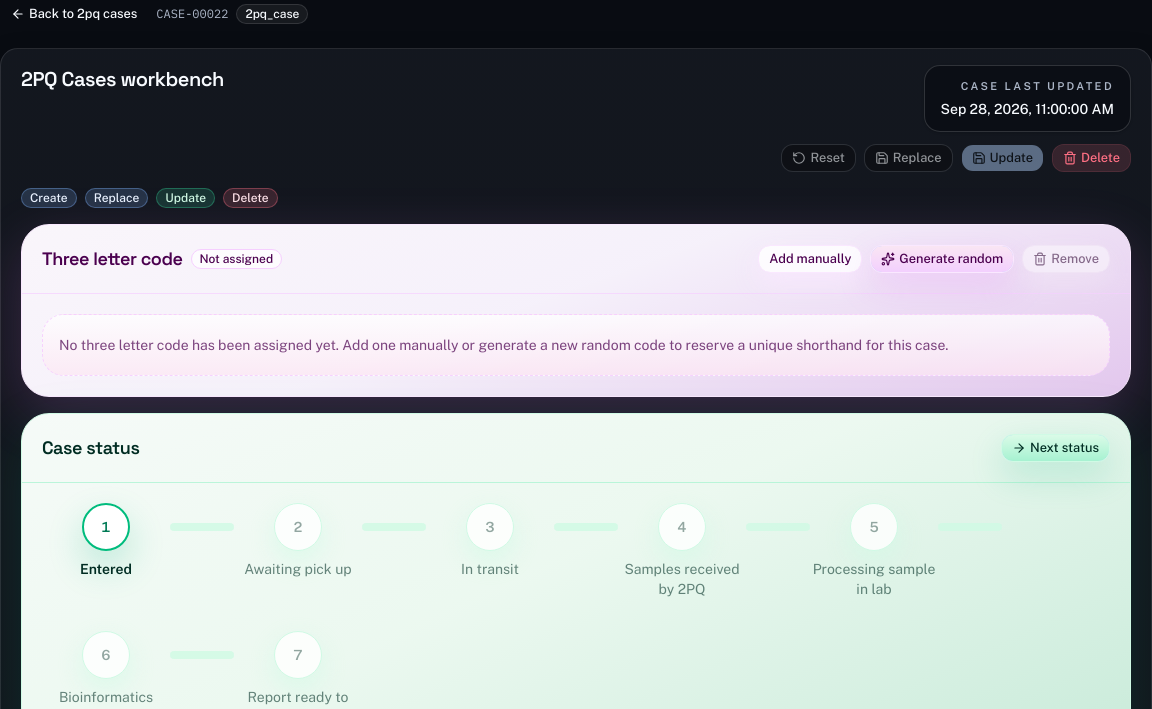
Test: 2PQ case-status progress modal › opens immediately and refreshes only after the operator finishes
Click the button "Next status".
click(1056, 448)  # box [1001,434,1110,462]
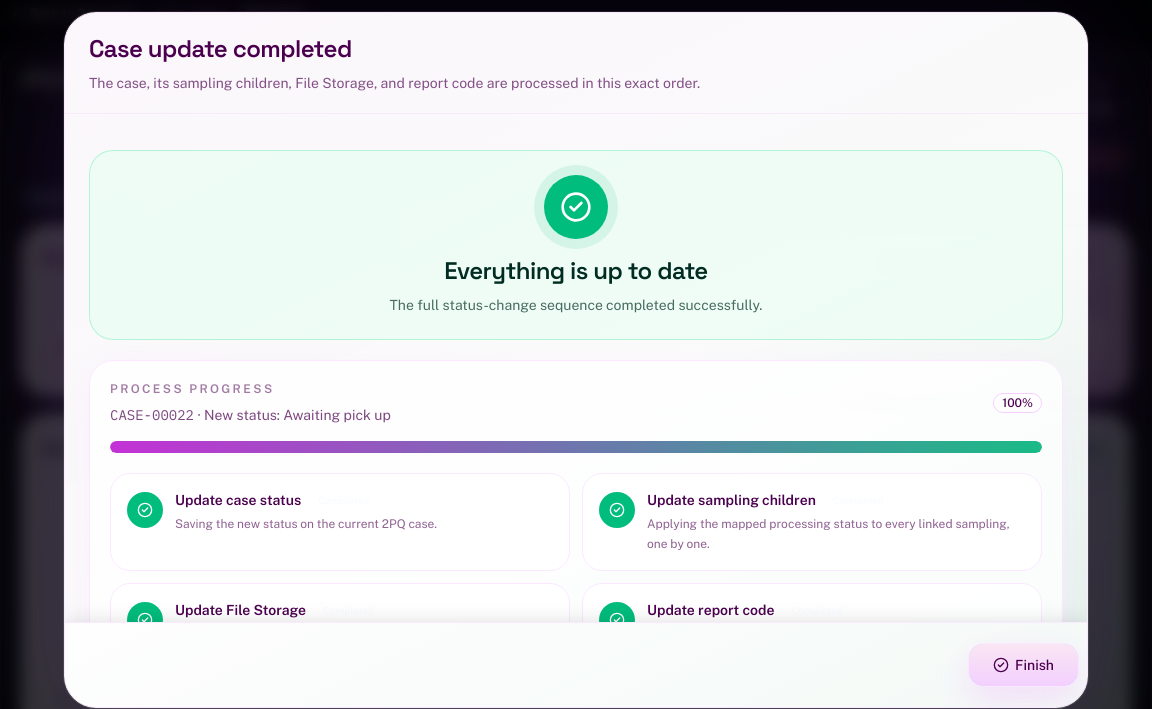
Check: the heading named "Updating case status" is shown, box [89,33,352,64]
Check: the text "Update case status" is shown, box [175,490,301,510]
Check: the text "Update sampling children" is shown, box [647,490,816,510]
Click the button "Finish".
click(1024, 665)  # box [968,643,1079,687]
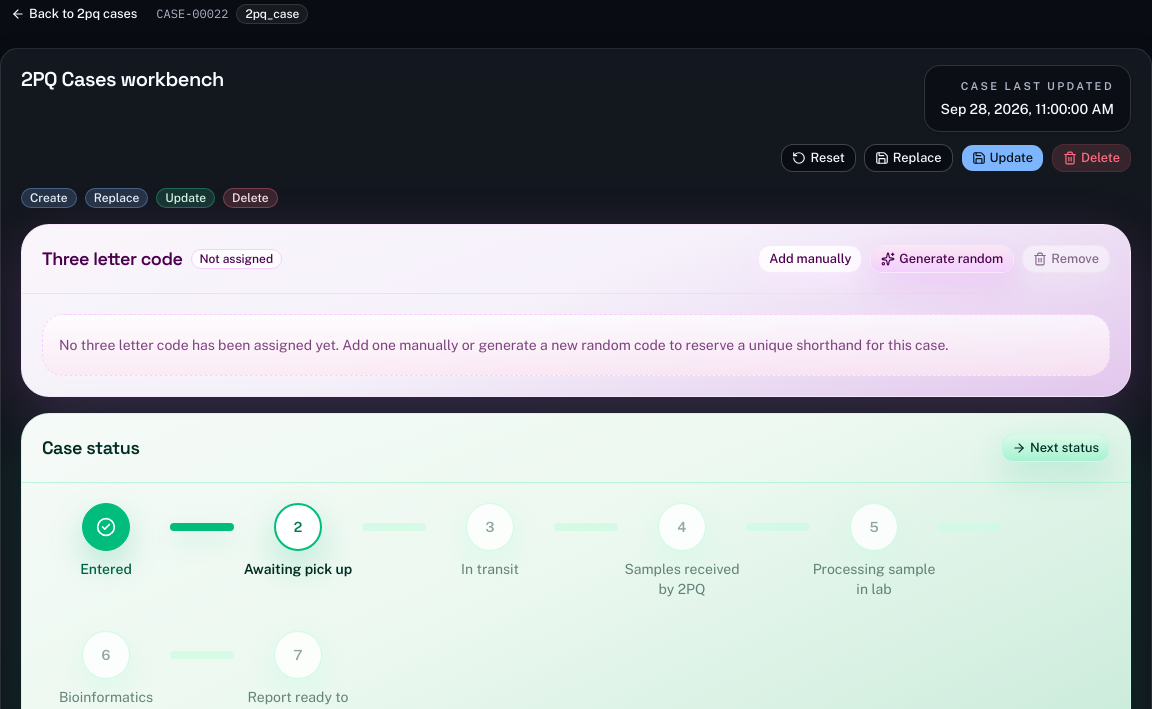
Check: the heading "Everything is up to date" is gone
